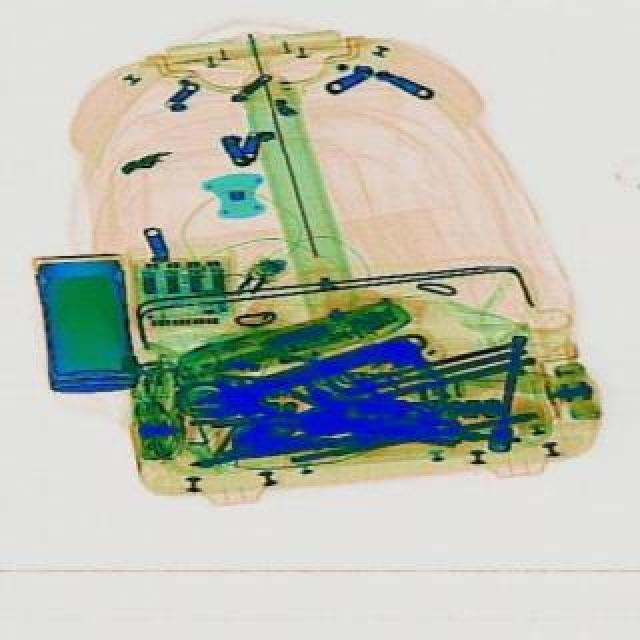scissors: (188, 324, 428, 428)
